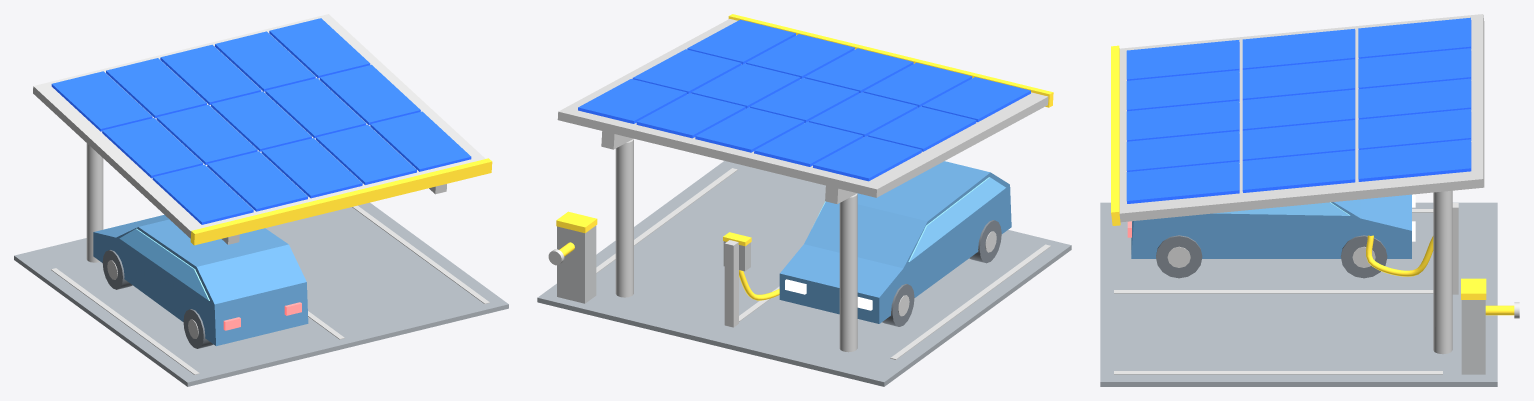
Rendered from PV-carport.glb.
The picture shows the model from 3 angles, left to right: view 1: azimuth 30°, elevation 25°; view 2: azimuth 150°, elevation 25°; view 3: azimuth 270°, elevation 25°; orthographic projection. The views are drawn at different scales.
Parts seen in each view (by area): view 1: pv_panel (×15), pad, body, frame, band, bay_line (×2), column, windows, wheel (×2); view 2: pad, pv_panel (×15), body, frame, column (×2), connection_box, band (×2), windows, bay_line (×2), wheel (×2), post; view 3: pv_panel (×15), pad, frame, body, column, bay_line (×2), wheel (×2), band (×2), connection_box, windows, cable, post (+1 smaller).
Boxes of the visible parts, x1,y1,x2,y2 form: pv_panel (×15): [51, 18, 471, 224]; pad: [14, 202, 508, 386]; body: [93, 214, 308, 346]; frame: [33, 14, 485, 238]; band: [190, 158, 492, 245]; bay_line (×2): [51, 205, 489, 374]; column: [86, 143, 103, 262]; windows: [119, 228, 209, 300]; wheel (×2): [102, 250, 213, 348]; pad: [537, 161, 1071, 386]; pv_panel (×15): [578, 19, 1030, 181]; body: [779, 161, 1011, 323]; frame: [557, 19, 1048, 197]; column (×2): [615, 139, 857, 352]; connection_box: [557, 225, 596, 303]; band (×2): [556, 14, 1053, 233]; windows: [817, 177, 1005, 261]; bay_line (×2): [596, 168, 1050, 359]; wheel (×2): [882, 220, 1001, 326]; post: [724, 240, 738, 327]; pv_panel (×15): [1126, 17, 1471, 203]; pad: [1100, 202, 1497, 386]; frame: [1119, 14, 1484, 222]; body: [1131, 194, 1411, 258]; column: [1433, 190, 1452, 354]; bay_line (×2): [1114, 290, 1442, 374]; wheel (×2): [1156, 235, 1387, 278]; band (×2): [1111, 45, 1486, 299]; connection_box: [1461, 300, 1485, 374]; windows: [1213, 202, 1350, 215]; cable: [1366, 235, 1433, 276]; post: [1452, 203, 1458, 294].
Bounding box in the file's own units: 6.2 × 3.29 × 6.12.
